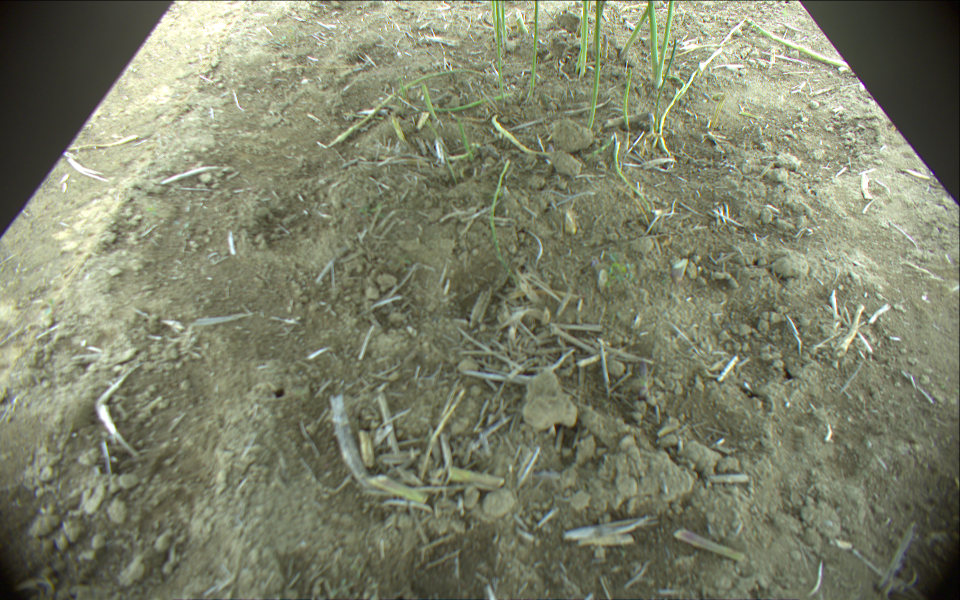aspa: (322, 66, 484, 150), (750, 18, 852, 71), (486, 157, 512, 254), (652, 41, 679, 132), (588, 1, 606, 135), (655, 1, 677, 84), (619, 1, 649, 58), (496, 1, 507, 106), (530, 1, 543, 89), (621, 65, 638, 128), (577, 1, 591, 76), (648, 1, 661, 77), (457, 120, 473, 163), (423, 85, 442, 121), (441, 148, 458, 185), (492, 1, 498, 39), (500, 1, 505, 41), (516, 11, 525, 33)
